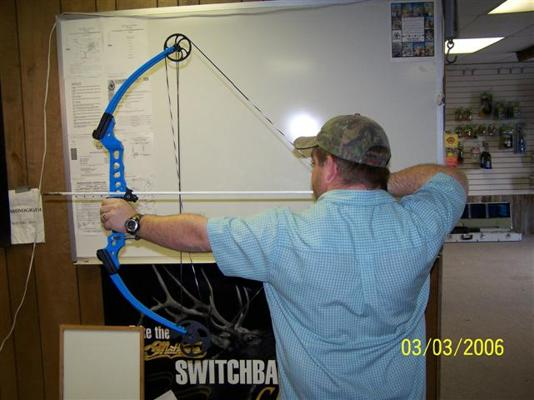person: (103, 116, 472, 400)
